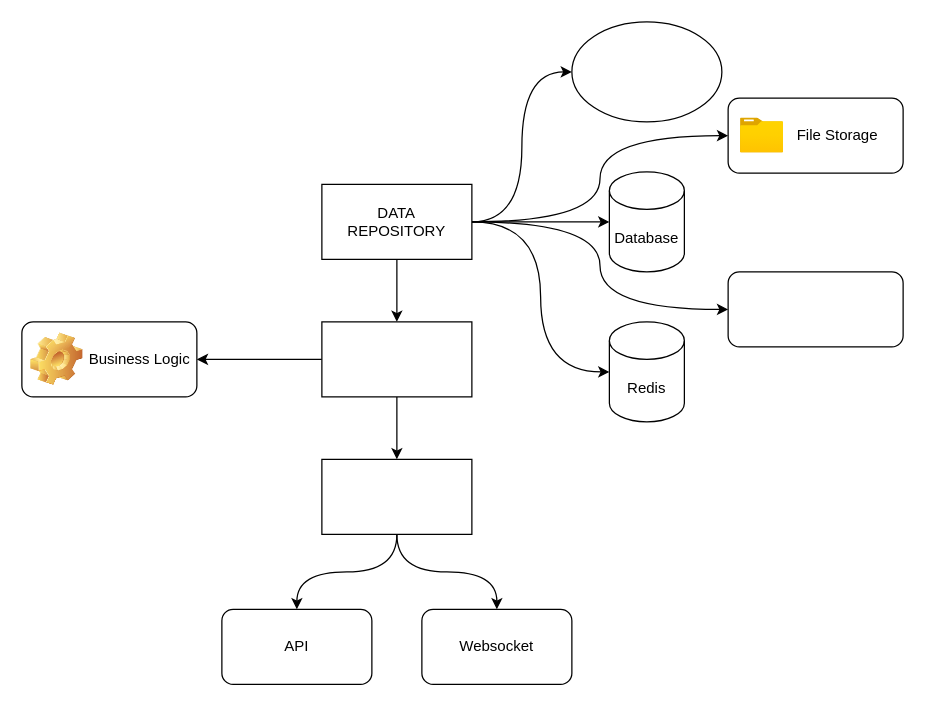
The diagram is 925 pixels wide and 706 high, and some of its shapes have lost their labels. The centre of each missing label's shape, as x and y in pixels:
DOMAIN SERVICE: the point at 396,359
Libraries: the point at 646,71
Notification: the point at 815,309
ROUTER CONTROLLER: the point at 396,496
